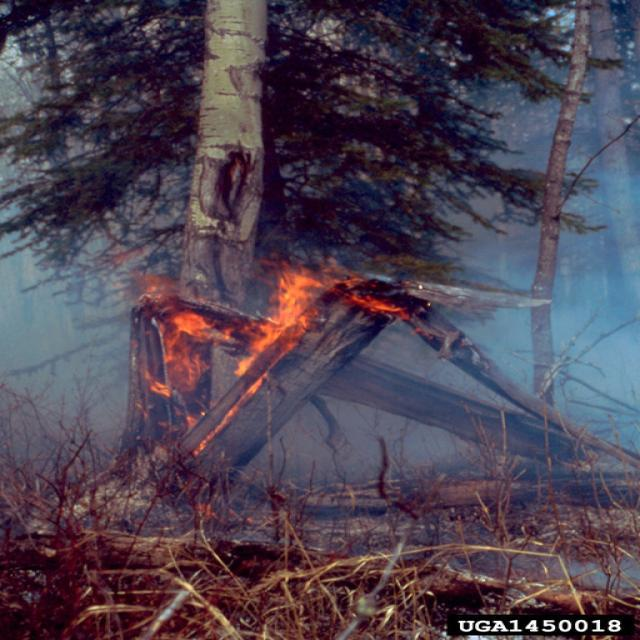Fire: (124, 251, 413, 458)
